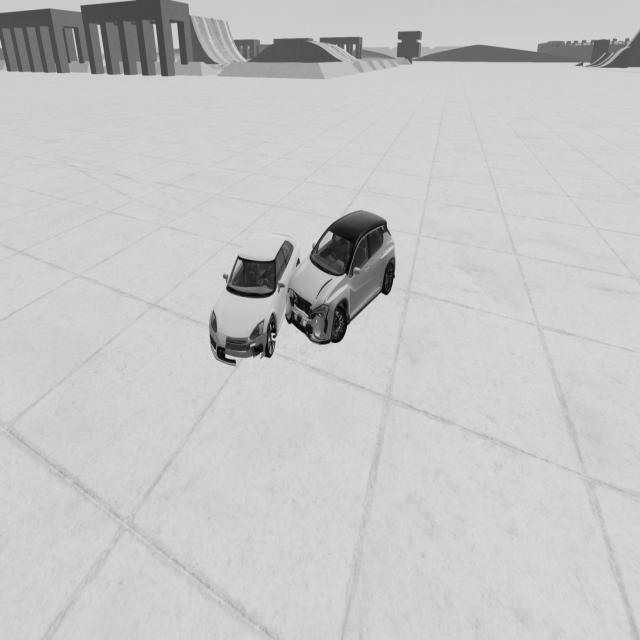accident: (208, 207, 396, 373)
